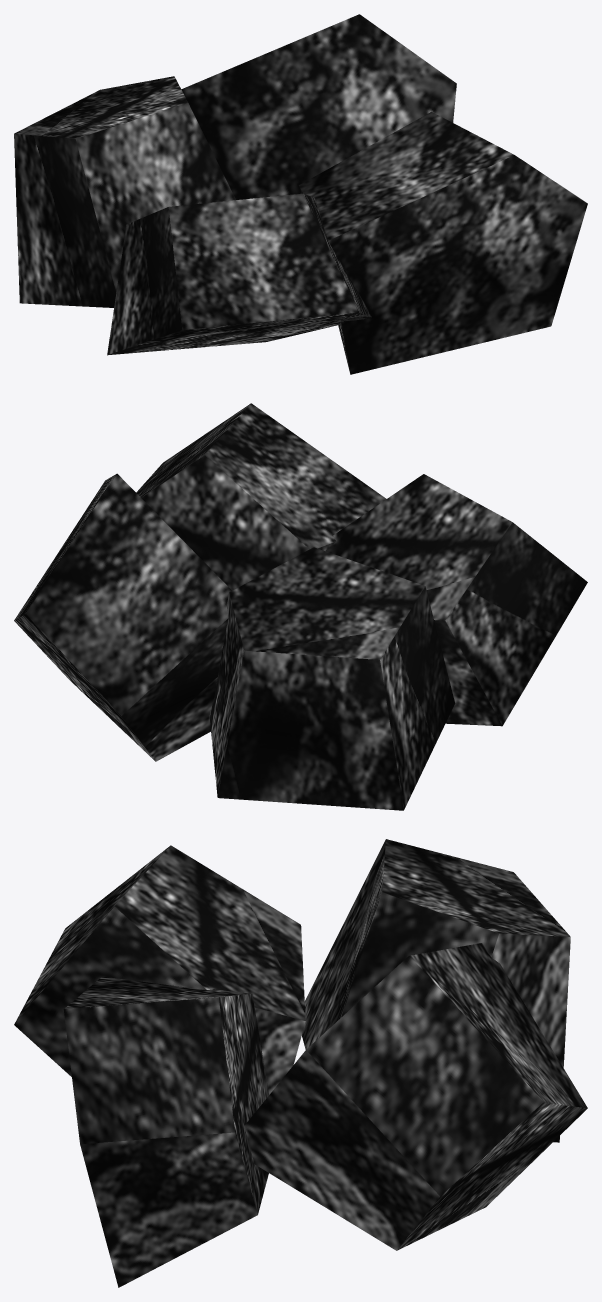
File: static.fbx
The picture shows the model from 3 angles, top to bottom: view 1: azimuth 30°, elevation 25°; view 2: azimuth 150°, elevation 25°; view 3: azimuth 270°, elevation 25°; orthographic projection. The views are drawn at different scales.
Visible parts, largest first — view 1: Cube_1, Cube_2, Cube_0, Cube_3; view 2: Cube_2, Cube_3, Cube_0, Cube_1; view 3: Cube_3, Cube_1, Cube_0, Cube_2.
Boxes of the visible parts, bbox=[...] form: Cube_1: bbox=[299, 112, 587, 374]; Cube_2: bbox=[14, 76, 235, 307]; Cube_0: bbox=[107, 193, 371, 355]; Cube_3: bbox=[181, 14, 456, 199]; Cube_2: bbox=[209, 547, 455, 810]; Cube_3: bbox=[14, 473, 231, 761]; Cube_0: bbox=[326, 474, 587, 726]; Cube_1: bbox=[136, 403, 386, 590]; Cube_3: bbox=[244, 943, 587, 1250]; Cube_1: bbox=[63, 976, 268, 1287]; Cube_0: bbox=[14, 845, 305, 1094]; Cube_2: bbox=[302, 839, 570, 1142].
Bounding box in the file's own units: 93.95 × 54.59 × 94.25.
1 material, 1 textured.
